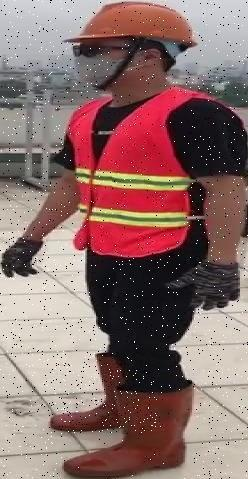boots: (49, 339, 205, 471)
gloves: (166, 259, 241, 311), (0, 235, 43, 277)
hard-hat: (61, 0, 198, 57)
vest: (49, 85, 223, 255)
